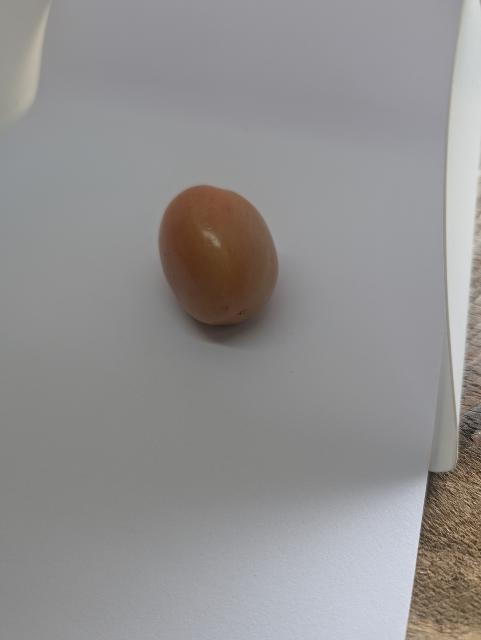turning: (149, 178, 290, 335)
